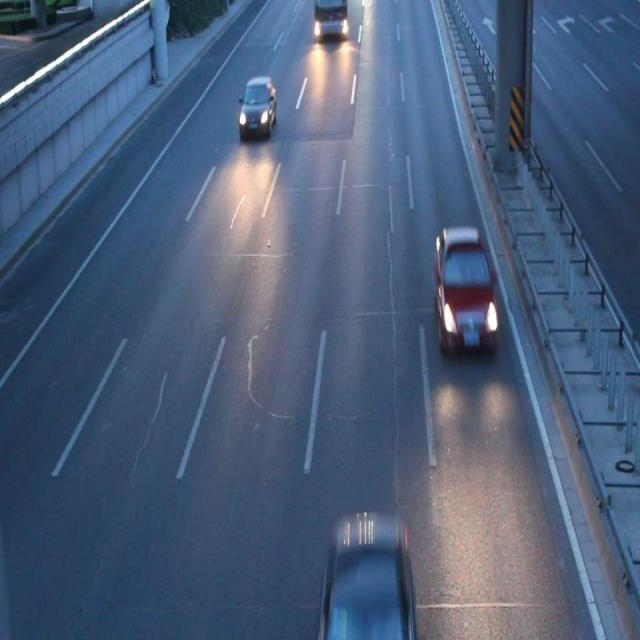car: (320, 521, 414, 640), (432, 226, 498, 354), (237, 77, 276, 138)
van: (313, 1, 347, 42)
